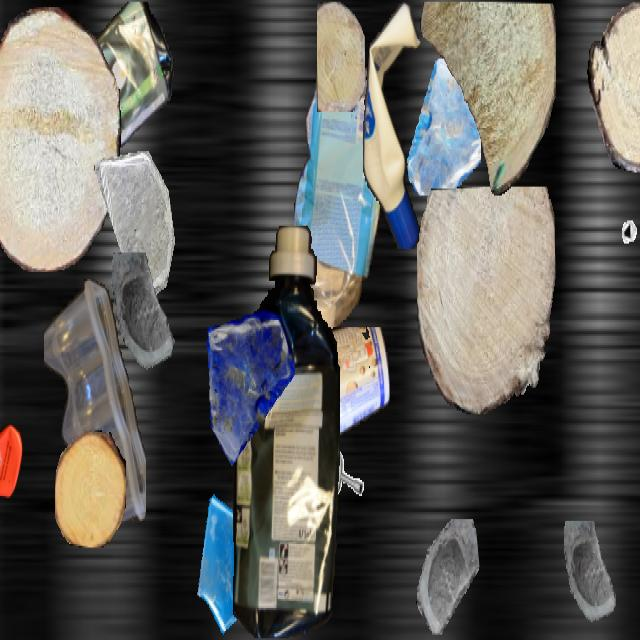glass: (201, 306, 295, 473), (193, 478, 283, 638), (94, 151, 178, 301), (107, 253, 185, 391), (404, 58, 480, 194), (559, 521, 625, 638), (415, 519, 479, 633)
metal: (322, 448, 370, 533), (619, 190, 640, 258)
plastic: (232, 226, 340, 638), (19, 2, 175, 183), (294, 62, 380, 372), (44, 279, 146, 532), (363, 2, 427, 247), (290, 327, 390, 452), (0, 425, 23, 567)
wood: (0, 7, 120, 270), (417, 187, 555, 414), (420, 2, 556, 194), (587, 2, 640, 172), (55, 430, 125, 548), (317, 2, 365, 112)
